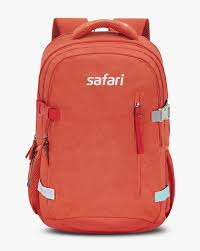backpack: (25, 17, 175, 234)
